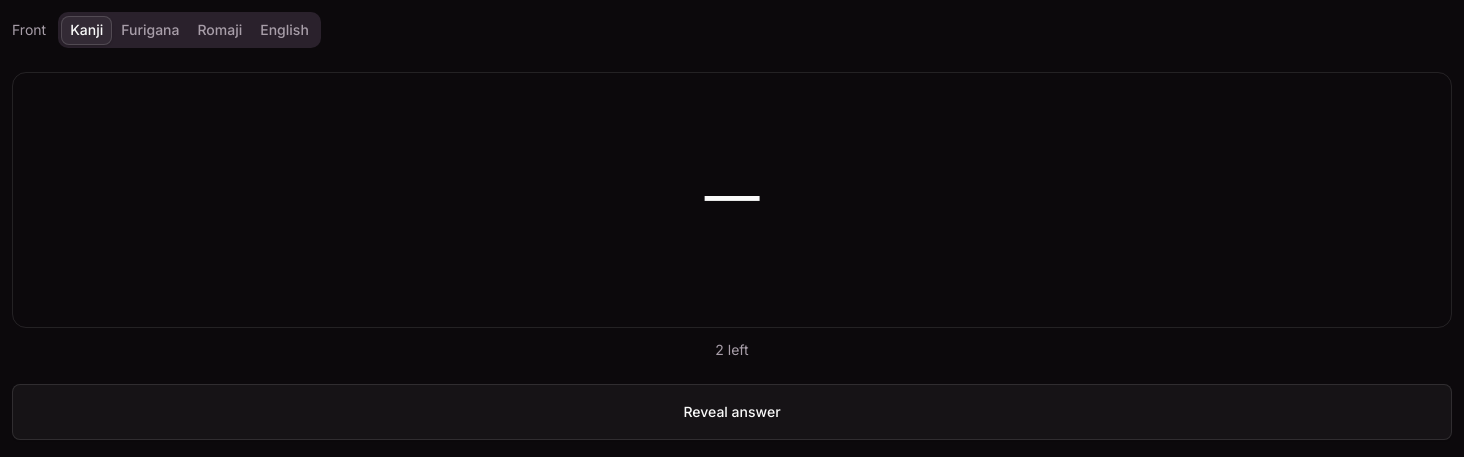
Flashcards › later › comes back round after the rest of the deck
The image size is (1464, 457).
Click the button "Reveal answer": (732, 412) [12, 384, 1452, 440]
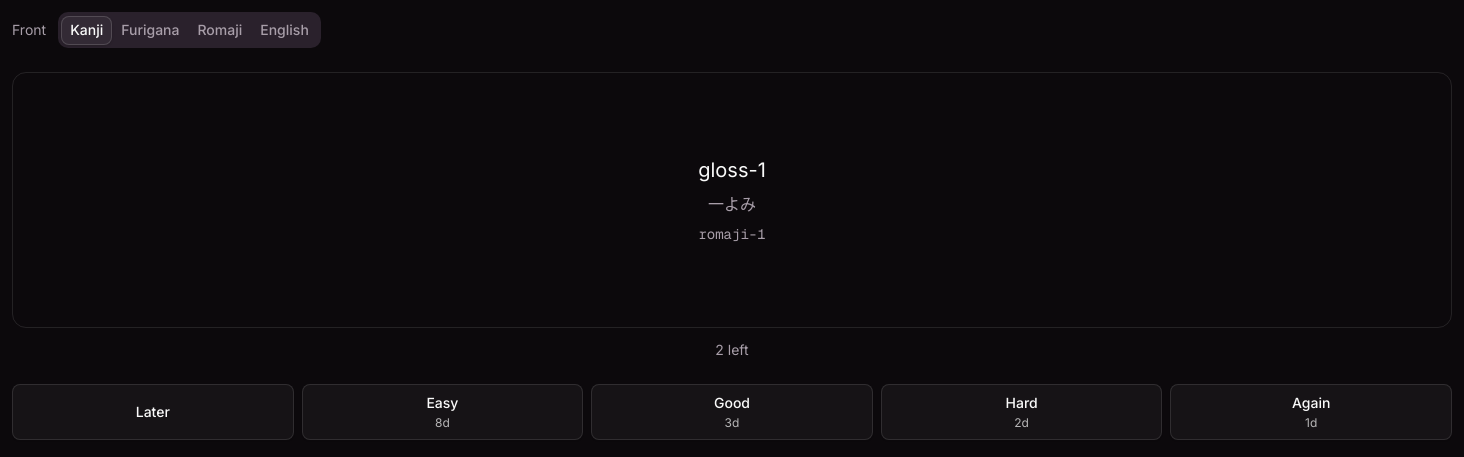
Click the button "Later": (153, 412) [12, 384, 294, 440]
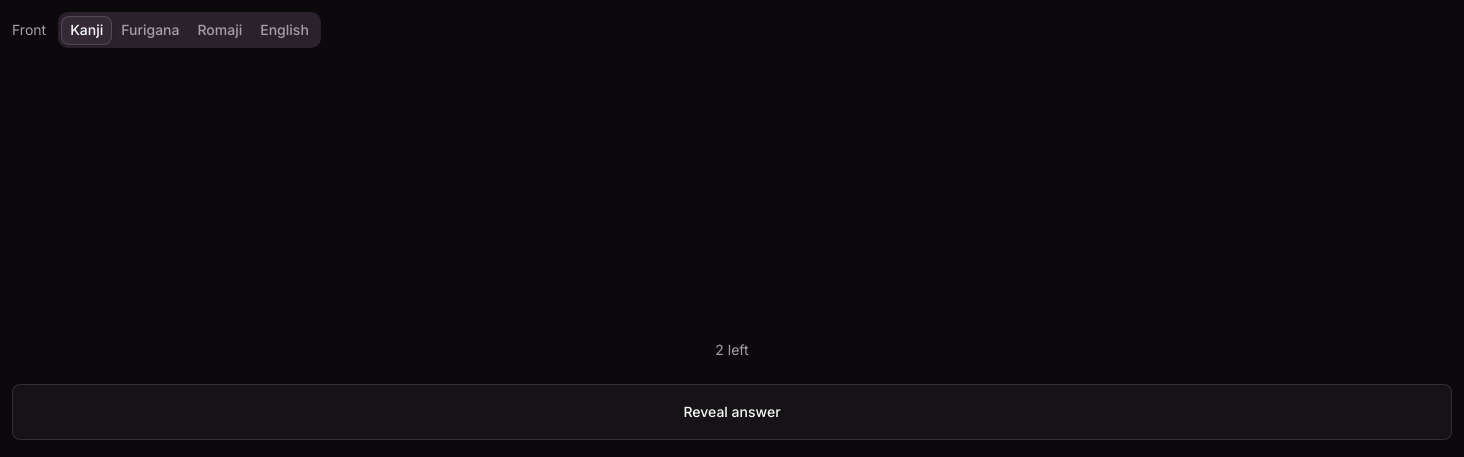
Click the button "Reveal answer": (732, 412) [12, 384, 1452, 440]
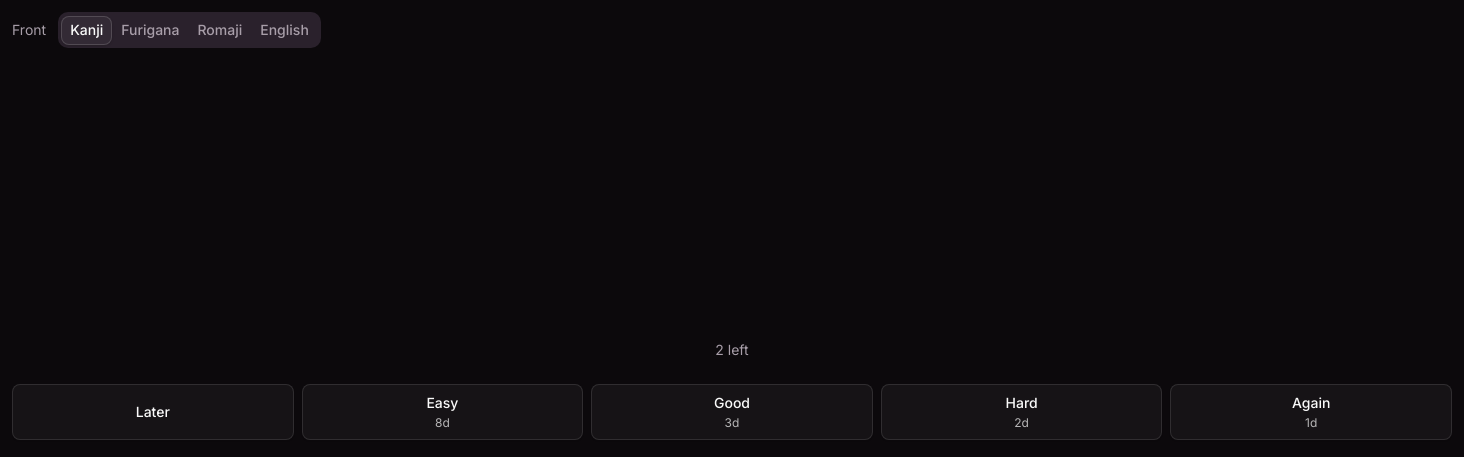
Click the button "Good 3d": (732, 412) [591, 384, 873, 440]
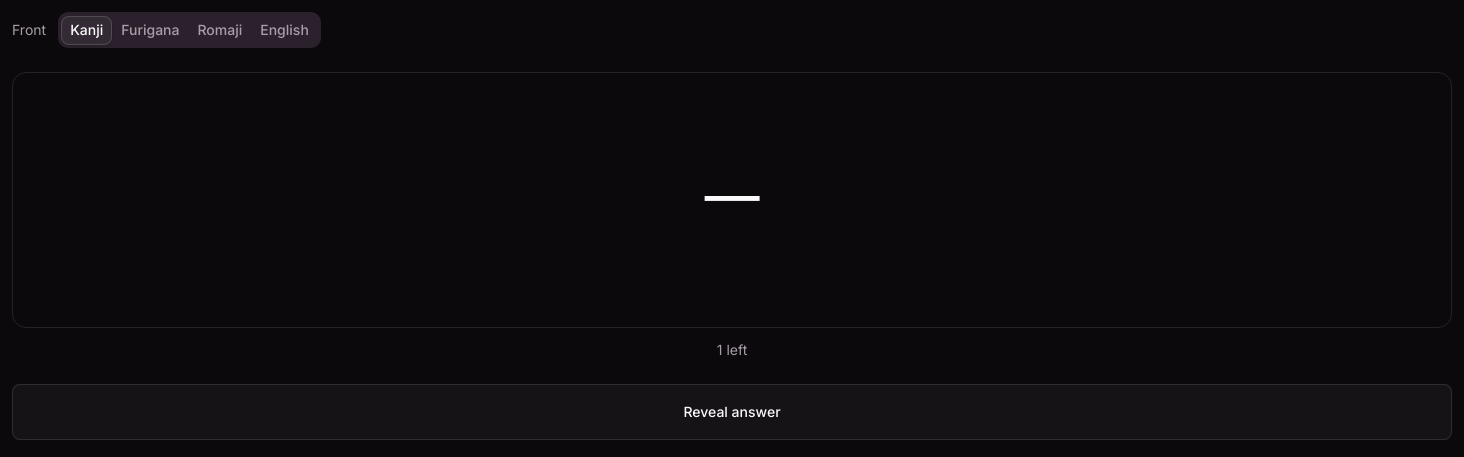
Result: the text "一" is shown at [702, 170, 762, 230]
Result: the text "1 left" is shown at [717, 341, 747, 358]
